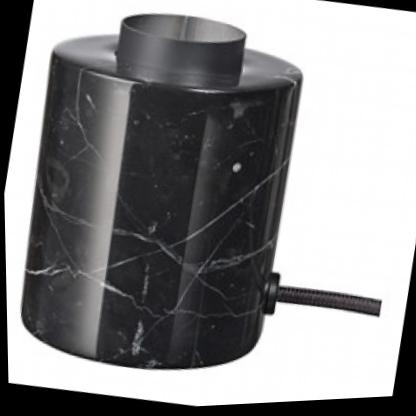Lamp: (0, 0, 355, 416)
